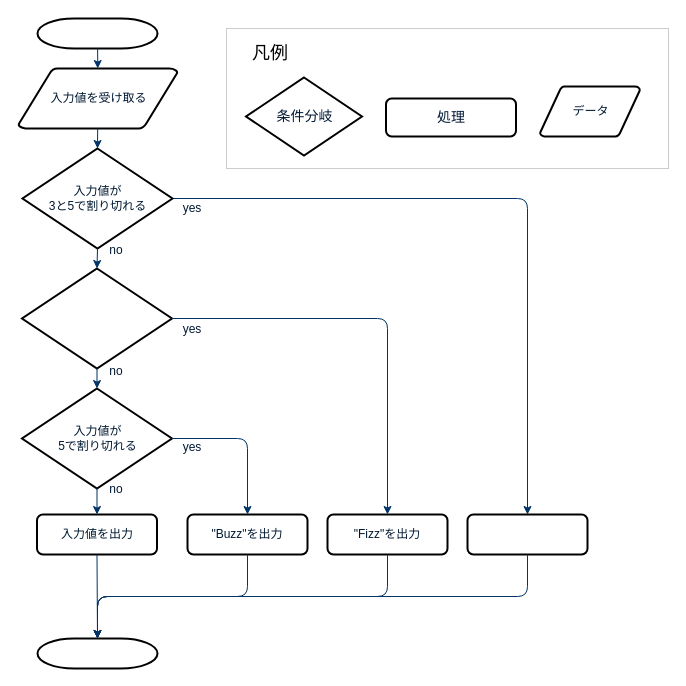
The diagram is 686 pixels wide and 686 high, and some of its shapes have lost their labels. The centre of each missing label's shape, as x and y in pixels:
"FizzBuzz"を出力: point (527, 534)
end: point (97, 653)
start: point (97, 33)
入力値が 3で割り切れる: point (96, 318)
